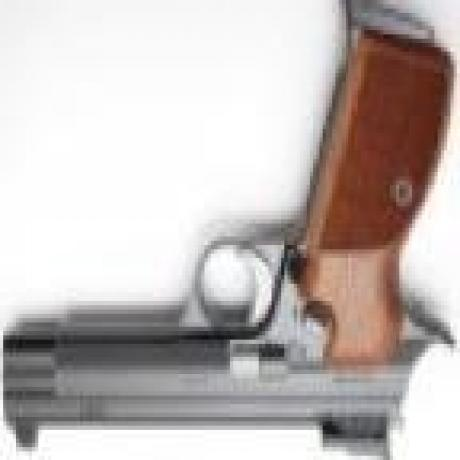weapon: (8, 8, 454, 450)
